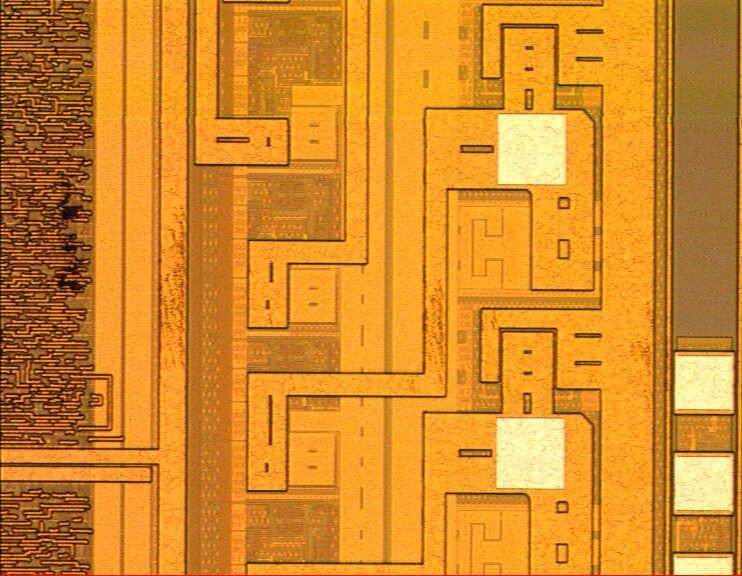SCRATCH: (55, 187, 674, 466)
